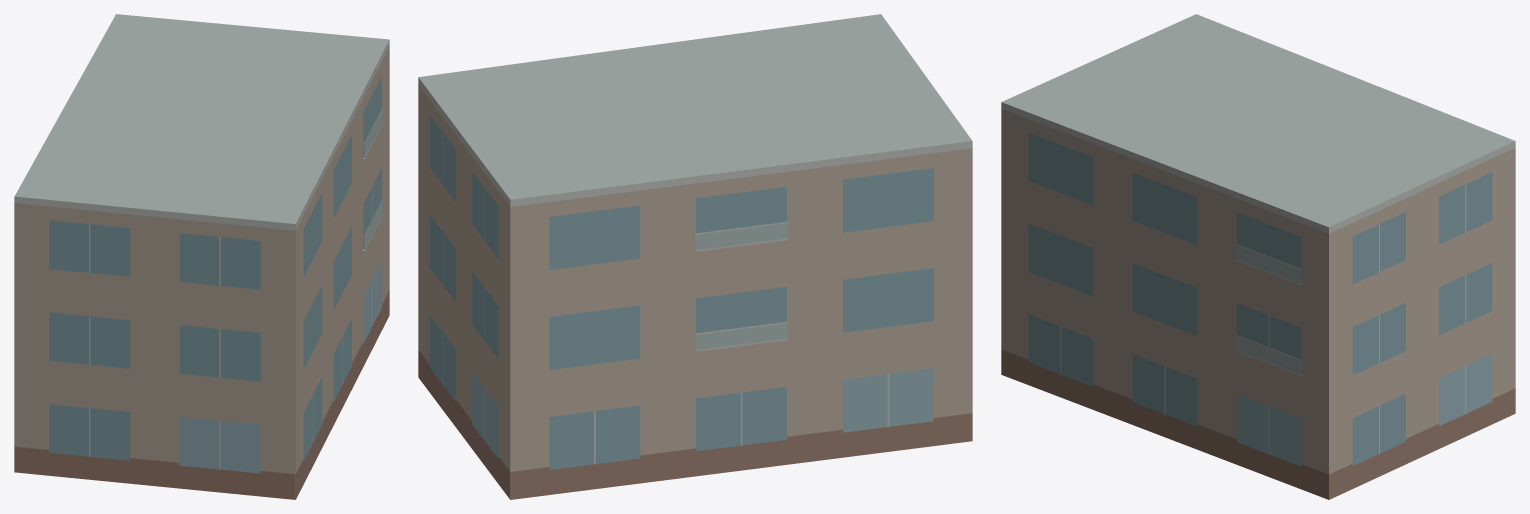
File: survey-upis-32624284.glb
3 renders of one model, left to right at view 1: azimuth 30°, elevation 25°; view 2: azimuth 150°, elevation 25°; view 3: azimuth 270°, elevation 25°, orthographic. The views are drawn at different scales.
Visible parts, largest first — view 1: survey-upis-32624284.tmp; view 2: survey-upis-32624284.tmp; view 3: survey-upis-32624284.tmp.
Boxes of the visible parts, x1,y1,x2,y2 form: survey-upis-32624284.tmp: (14, 14, 389, 499); survey-upis-32624284.tmp: (418, 14, 972, 499); survey-upis-32624284.tmp: (1001, 14, 1515, 499).
Bounding box in the file's own units: 17.13 × 10.2 × 17.45.
